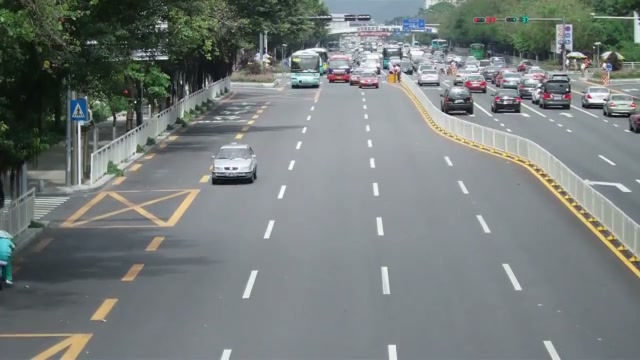bus: (290, 49, 324, 87)
car: (210, 143, 259, 184), (536, 78, 571, 109), (440, 87, 474, 115), (602, 93, 637, 118), (491, 90, 521, 113), (582, 87, 612, 108), (463, 75, 487, 93), (358, 71, 380, 89), (417, 69, 439, 87), (327, 68, 351, 84), (517, 85, 536, 102), (628, 111, 640, 133)
motorcycle: (0, 230, 16, 289)
pedestrian: (0, 230, 16, 289)
truck: (290, 49, 322, 87)
